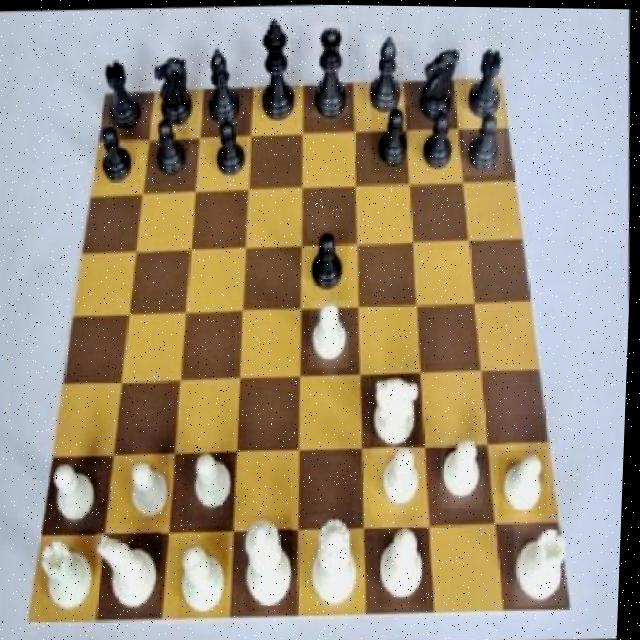bishop: (199, 41, 246, 128), (364, 32, 411, 119)
black-bishop: (255, 14, 305, 124)
black-king: (147, 49, 202, 133), (414, 39, 462, 123)
black-knight: (463, 104, 508, 174), (311, 227, 353, 300), (92, 126, 143, 186), (371, 103, 414, 173), (210, 114, 252, 183), (150, 119, 191, 184), (421, 106, 456, 177)
black-pawn: (310, 20, 351, 116)
black-queen: (101, 51, 150, 134), (464, 39, 504, 120)
black-rook: (180, 533, 235, 617), (378, 526, 433, 604)
white-bishop: (247, 514, 299, 612)
white-king: (98, 529, 167, 620), (372, 371, 425, 451)
white-knight: (185, 441, 244, 520), (48, 455, 106, 528), (374, 443, 427, 514), (122, 451, 174, 522), (501, 447, 553, 514), (442, 435, 488, 508), (309, 301, 354, 370)
white-pawn: (307, 513, 369, 613)
white-queen: (43, 536, 102, 626), (516, 520, 574, 605)
